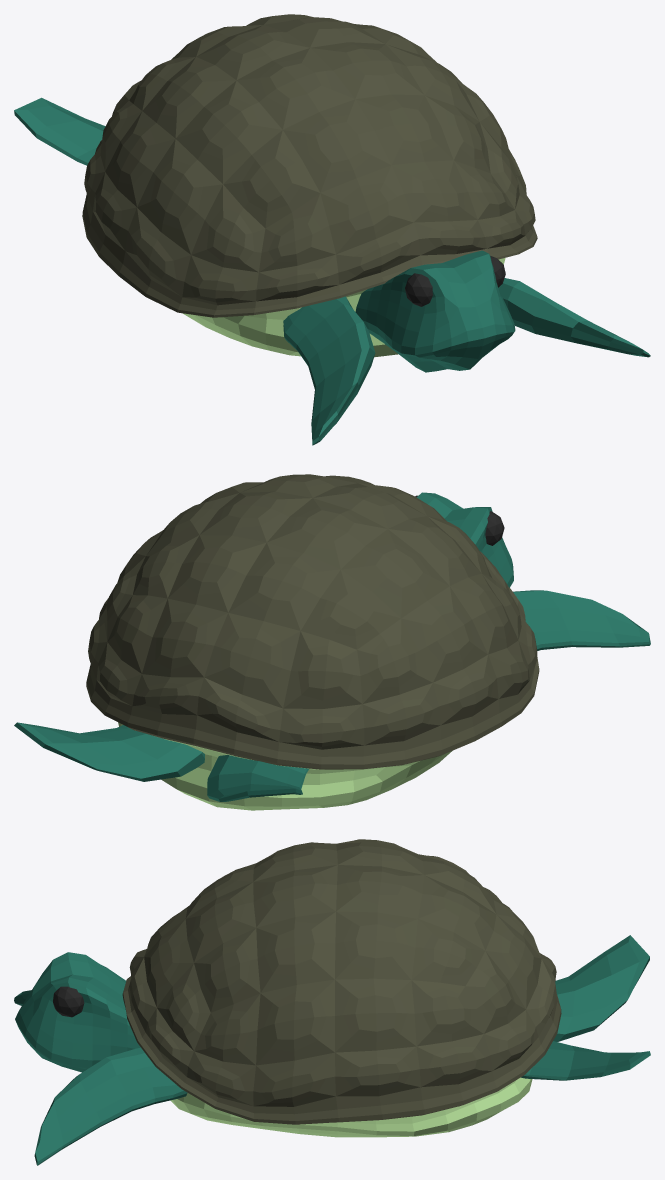
File: turtle3.fbx
3 renders of one model, top to bottom at view 1: azimuth 30°, elevation 25°; view 2: azimuth 150°, elevation 25°; view 3: azimuth 270°, elevation 25°, orthographic. The views are drawn at different scales.
Visible parts, largest first — view 1: Cube; view 2: Cube; view 3: Cube.
Boxes of the visible parts, x1,y1,x2,y2 form: Cube: [14, 14, 650, 445]; Cube: [14, 474, 650, 810]; Cube: [14, 839, 650, 1165].
Bounding box in the file's own units: 1.69 × 1.16 × 2.63.
